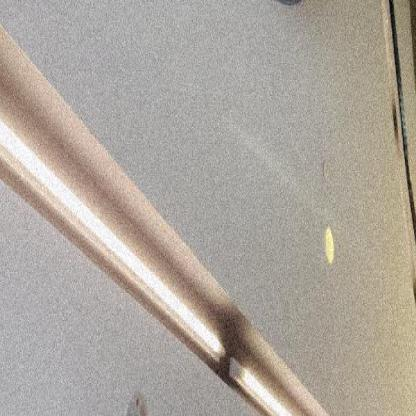light_on: (0, 101, 226, 377), (224, 347, 326, 415)
